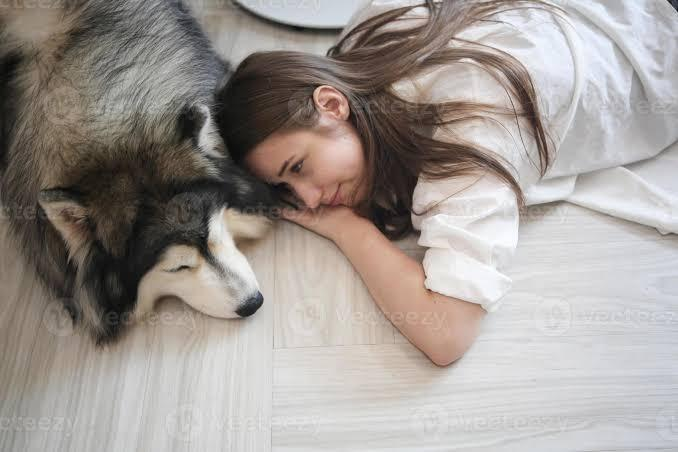adult_dog: (0, 0, 302, 353)
non-dog: (210, 1, 678, 369)
